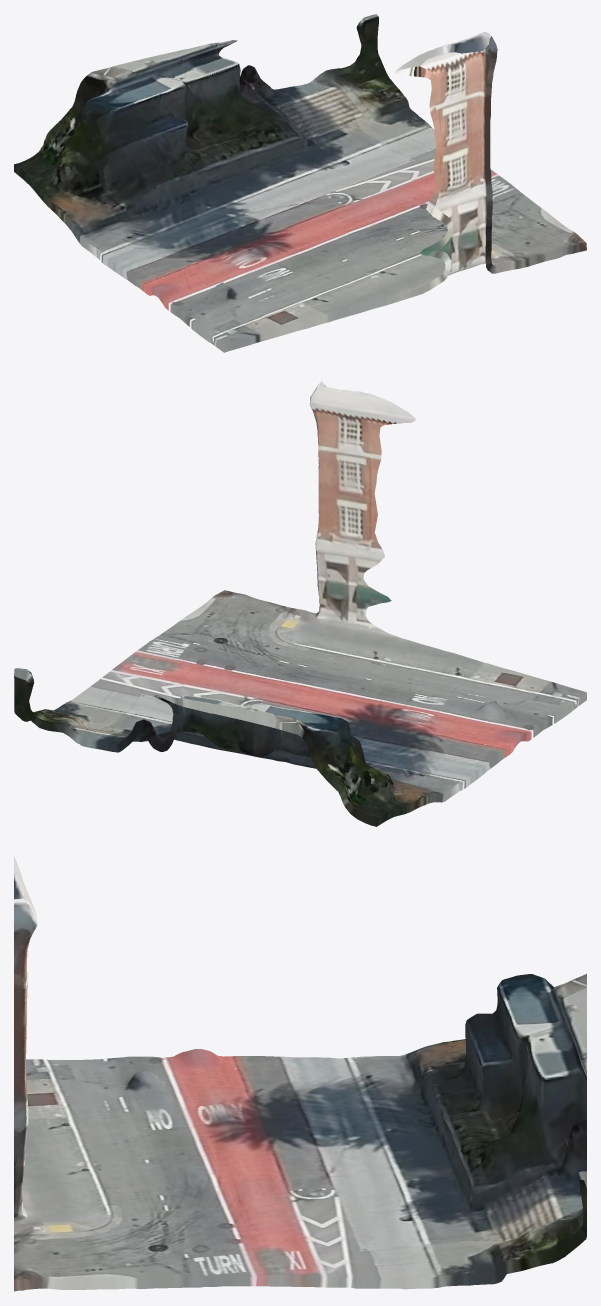
The model's file is z20-167752-405248-h0-yup-uvflip-v3-world.glb.
The picture shows the model from 3 angles, top to bottom: view 1: azimuth 30°, elevation 25°; view 2: azimuth 150°, elevation 25°; view 3: azimuth 270°, elevation 25°; orthographic projection. The views are drawn at different scales.
Size of the model in its own units: 30.2 by 20.28 by 30.32.
1 material, 1 textured.
